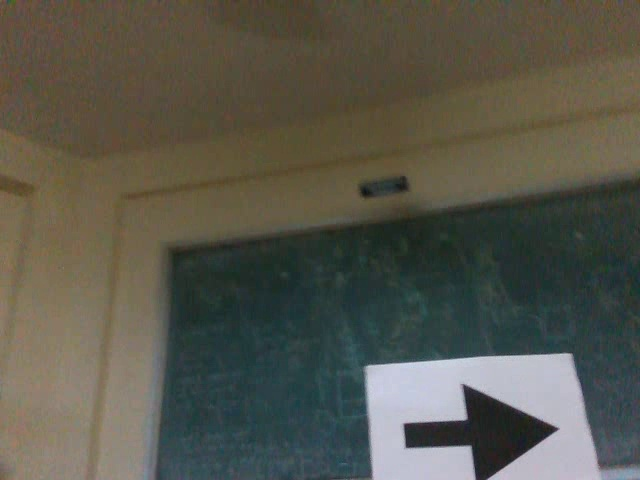Right: (390, 373, 565, 480)
